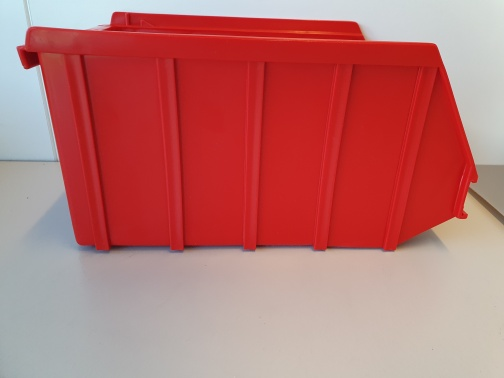tray_left: (16, 26, 479, 252)
